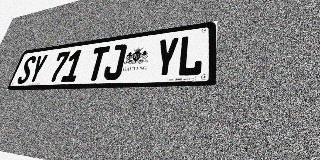1: (61, 49, 84, 82)
7: (47, 51, 70, 83)
J: (102, 44, 127, 80)
L: (176, 33, 204, 77)
S: (16, 56, 37, 84)
T: (85, 46, 110, 81)
Y: (153, 37, 180, 78), (27, 54, 49, 84)
